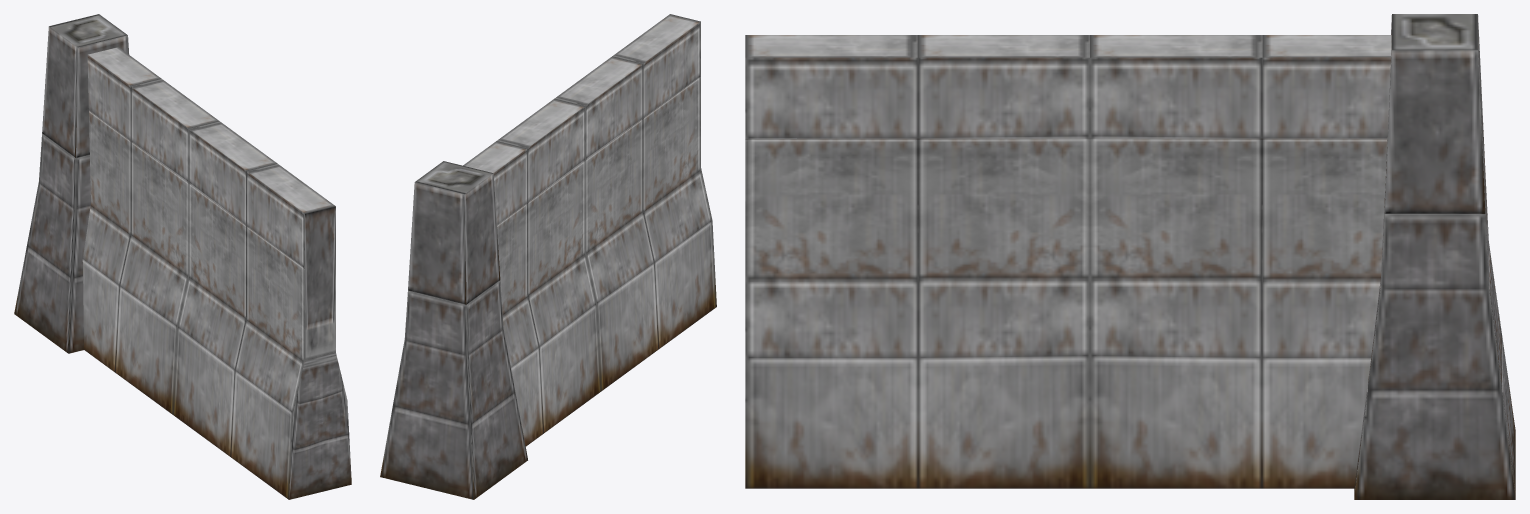
Rendered from s_heavywall.glb.
3 renders of one model, left to right at view 1: azimuth 30°, elevation 25°; view 2: azimuth 150°, elevation 25°; view 3: azimuth 270°, elevation 25°, orthographic. The views are drawn at different scales.
Parts seen in each view (by area): view 1: S_HeavyWall; view 2: S_HeavyWall; view 3: S_HeavyWall.
Boxes of the visible parts, x1,y1,x2,y2 form: S_HeavyWall: [14, 14, 351, 499]; S_HeavyWall: [380, 14, 716, 499]; S_HeavyWall: [745, 14, 1515, 499].
Size of the model in its own units: 6 by 17.76 by 28.6.
1 material, 1 textured.
